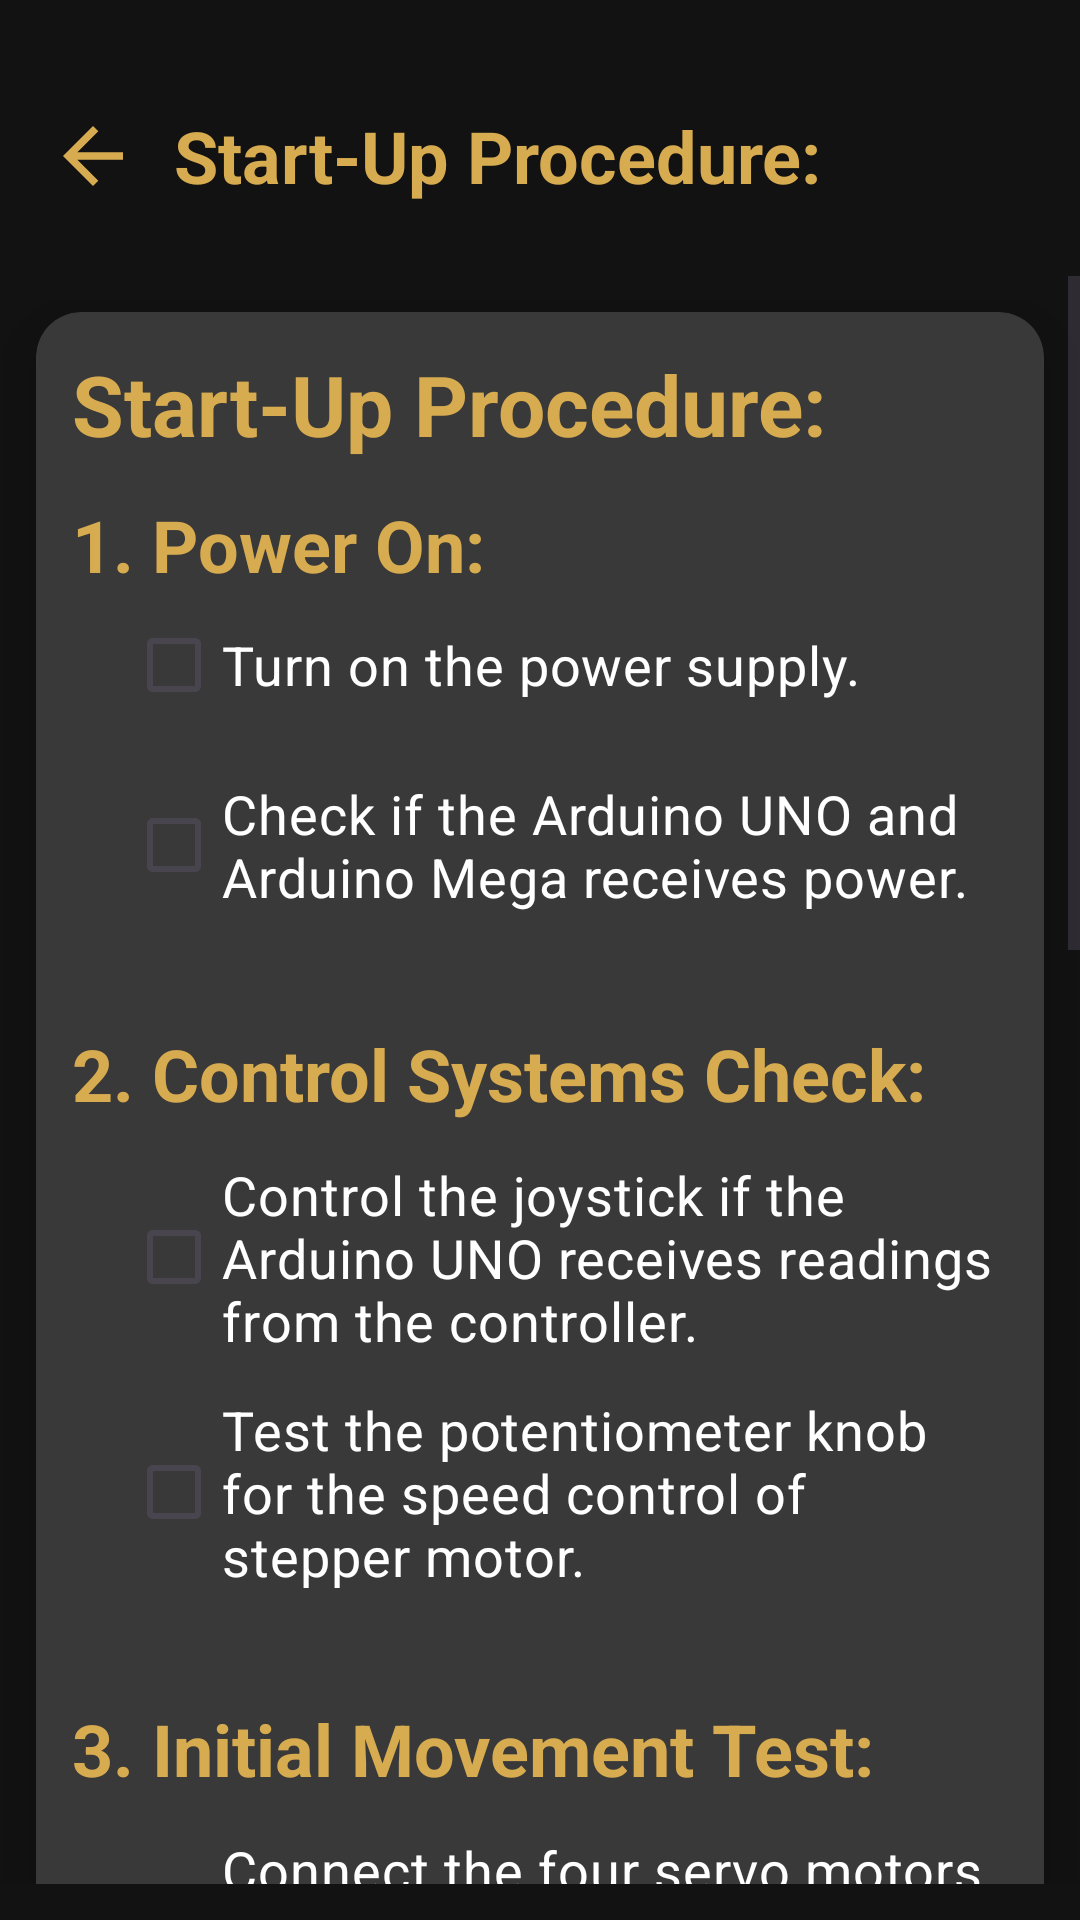

Icons on this 1080px x 1920px Android screen, each with its box as (x1=x1, y1=y1, x2=x2, y2=y2):
arrow back: (x1=63, y1=126, x2=123, y2=186)
